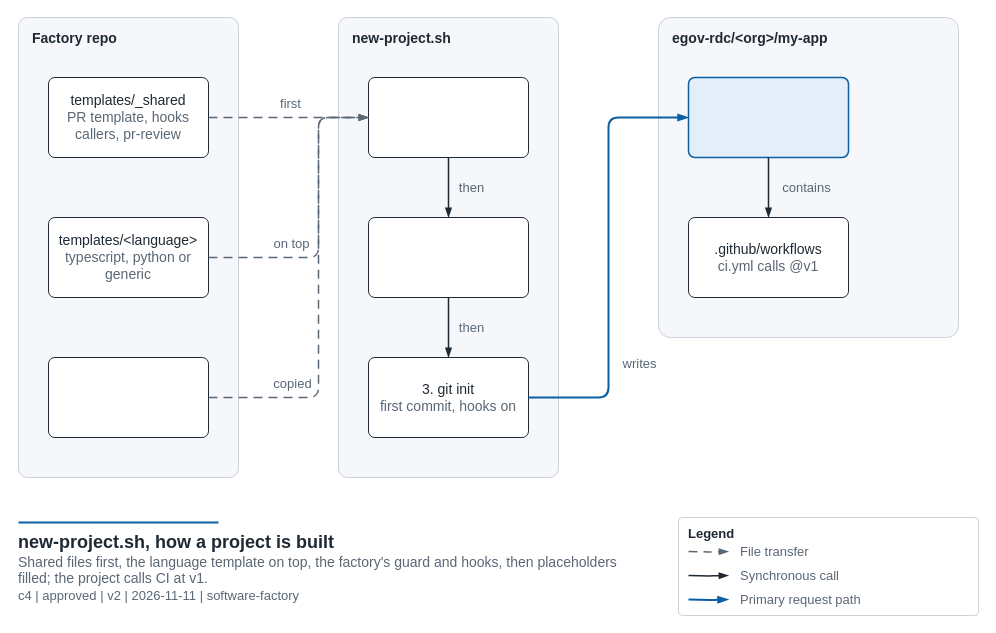
Image size: 996x633. Some labels were removed from this diagram. The shapes that lost their labels are listed below. From the top down, each one's centre as x and y in pixels, then its label:
(448,117): 1. Copy layers language overrides _shared
(768,117): my-app ready for /factory-build
(448,257): 2. Fill placeholders {{PROJECT_NAME}}, {{FACTORY_REPO}}
(128,397): scripts/check_content.py and scripts/hooks
